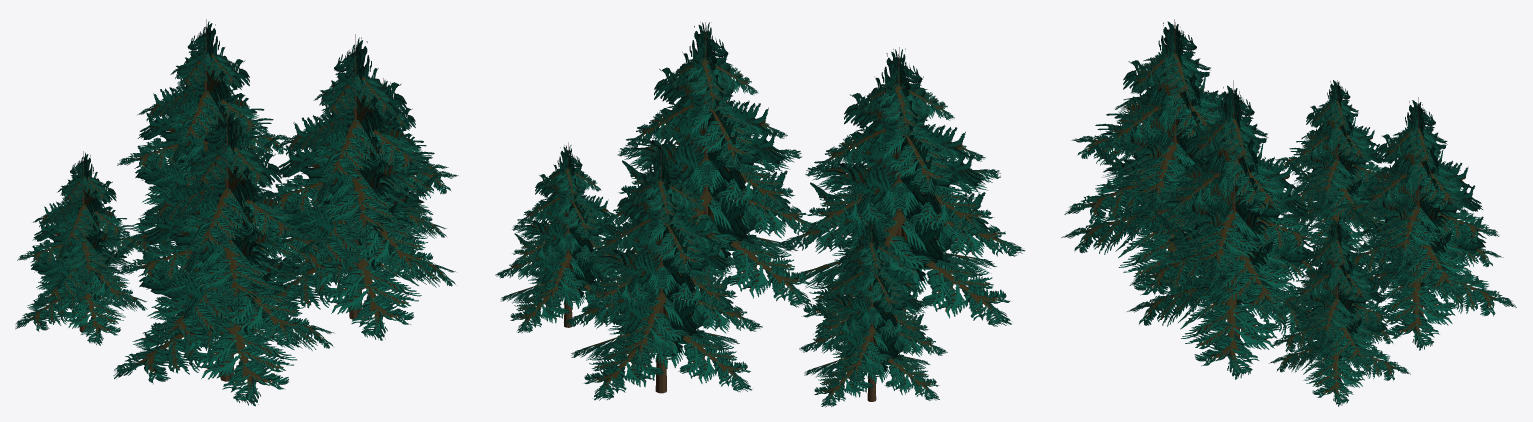
Rendered from Resources_Wood.fbx.
3 renders of one model, left to right at view 1: azimuth 30°, elevation 25°; view 2: azimuth 150°, elevation 25°; view 3: azimuth 270°, elevation 25°, orthographic. The views are drawn at different scales.
Visible parts, largest first — view 1: Forest 1; view 2: Forest 1; view 3: Forest 1.
Part boxes in pixels (x1=…): Forest 1: x1=15, y1=19, x2=458, y2=406; Forest 1: x1=495, y1=22, x2=1025, y2=407; Forest 1: x1=1061, y1=19, x2=1516, y2=406.
Size of the model in its own units: 2366 by 1479 by 2278.
